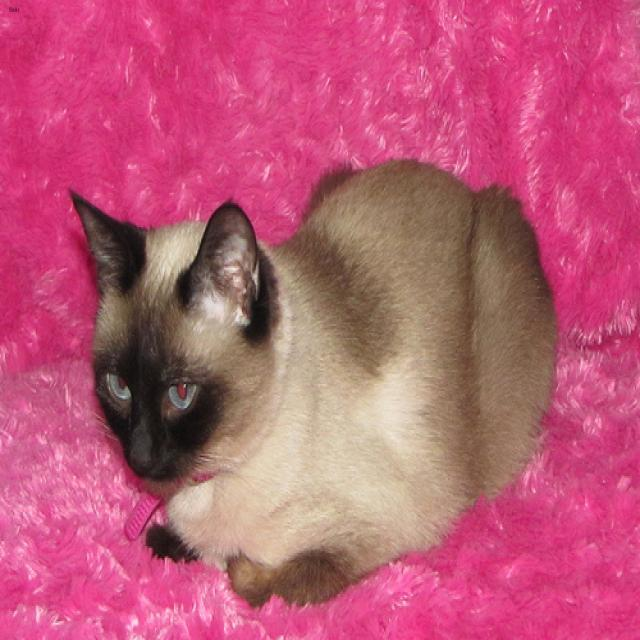Siamese: (66, 180, 287, 490)
